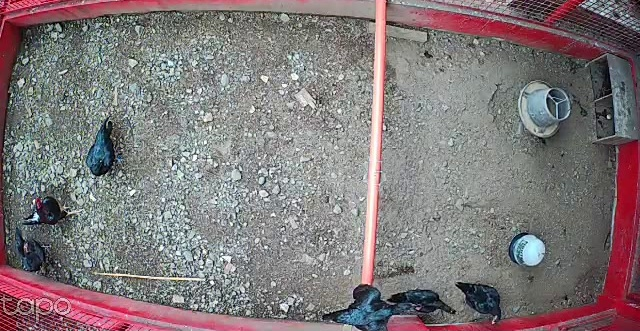Chicken: (317, 281, 422, 331), (84, 115, 129, 177), (452, 274, 504, 326), (383, 286, 461, 316), (10, 225, 55, 274)
Drinker: (509, 232, 545, 268)
Feeder: (518, 79, 570, 139)
Rooster: (19, 195, 87, 231)
